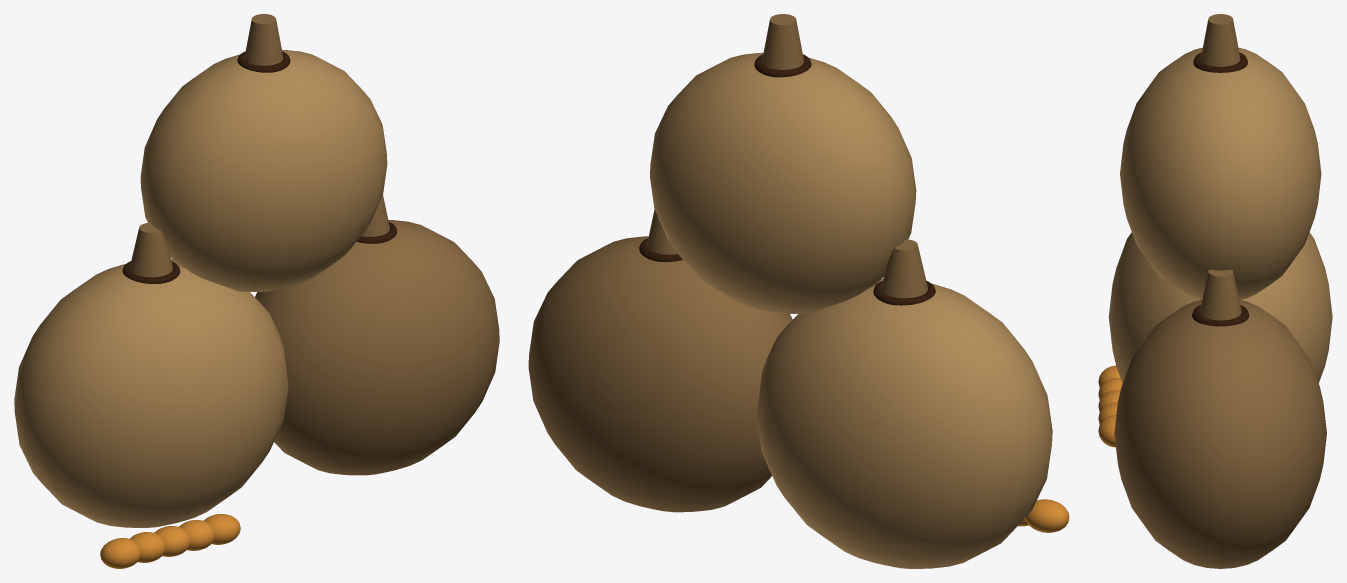
Rendered from potato_sacks.glb.
3 renders of one model, left to right at view 1: azimuth 30°, elevation 25°; view 2: azimuth 150°, elevation 25°; view 3: azimuth 270°, elevation 25°, orthographic. The views are drawn at different scales.
Visible parts, largest first — view 1: potato_sacks; view 2: potato_sacks; view 3: potato_sacks.
Boxes of the visible parts, box(x1,y1,x2,y2) form: potato_sacks: box(14, 14, 499, 568); potato_sacks: box(528, 14, 1069, 568); potato_sacks: box(1098, 14, 1332, 568).
Bounding box in the file's own units: 1.32 × 1.29 × 0.565.
